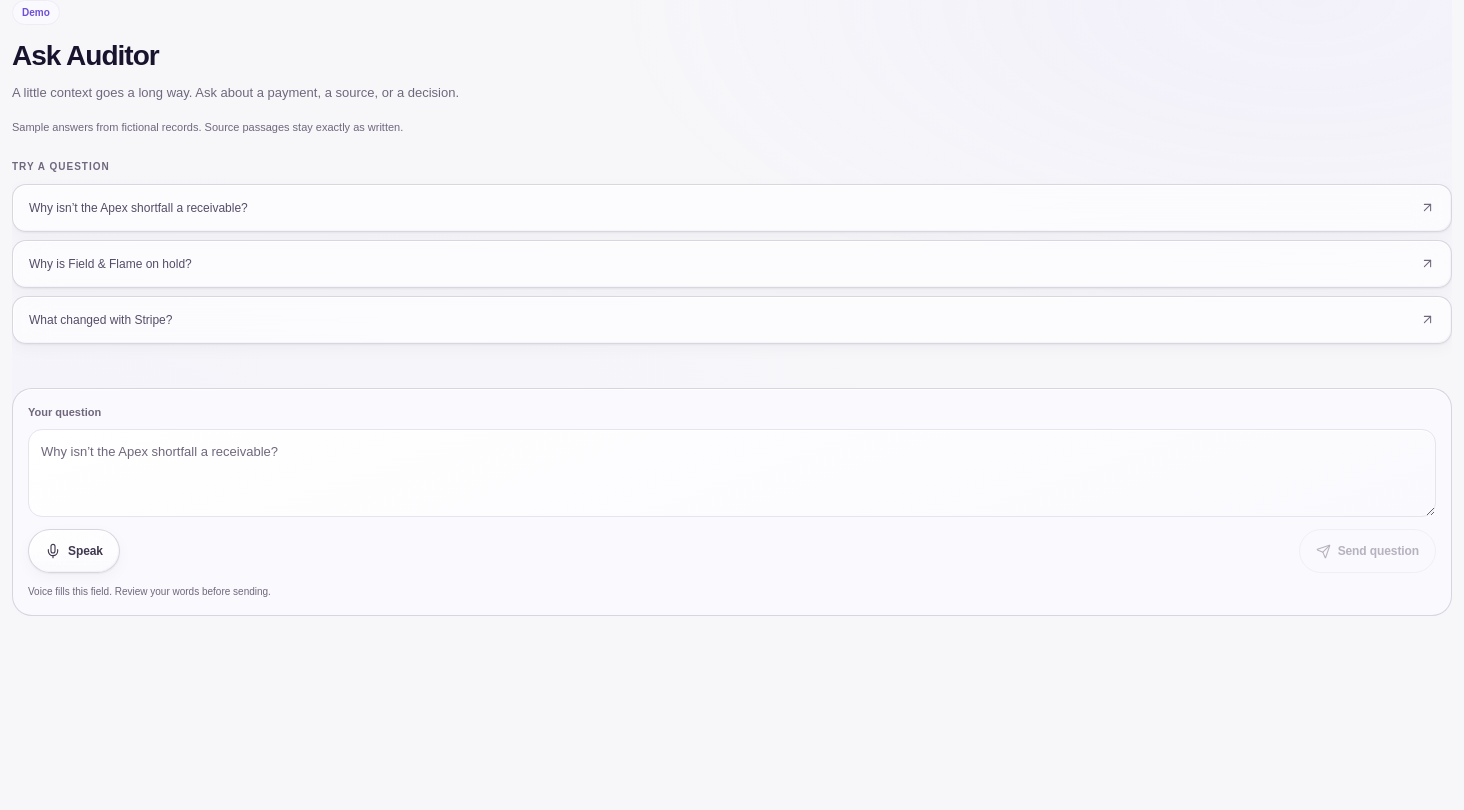
Scenario: explicit voice input › handles not-allowed without losing the typed question
Step 1. Type "Explain Apex" into the text box labelled "Your question" → (732, 473), box [28,429,1436,517]
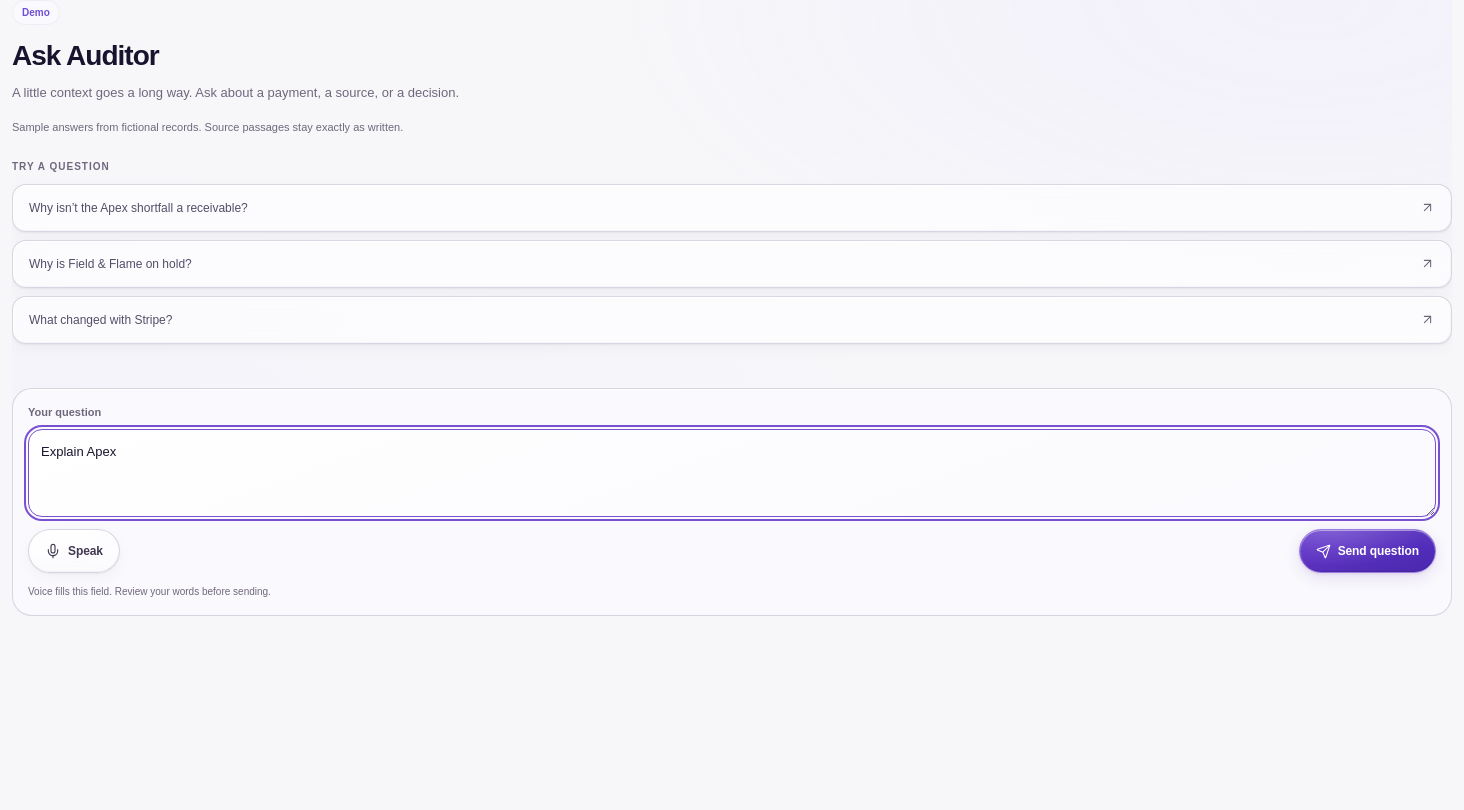
Step 2. Click the button with aria-label "Start microphone" → (74, 551), box [28,529,120,573]
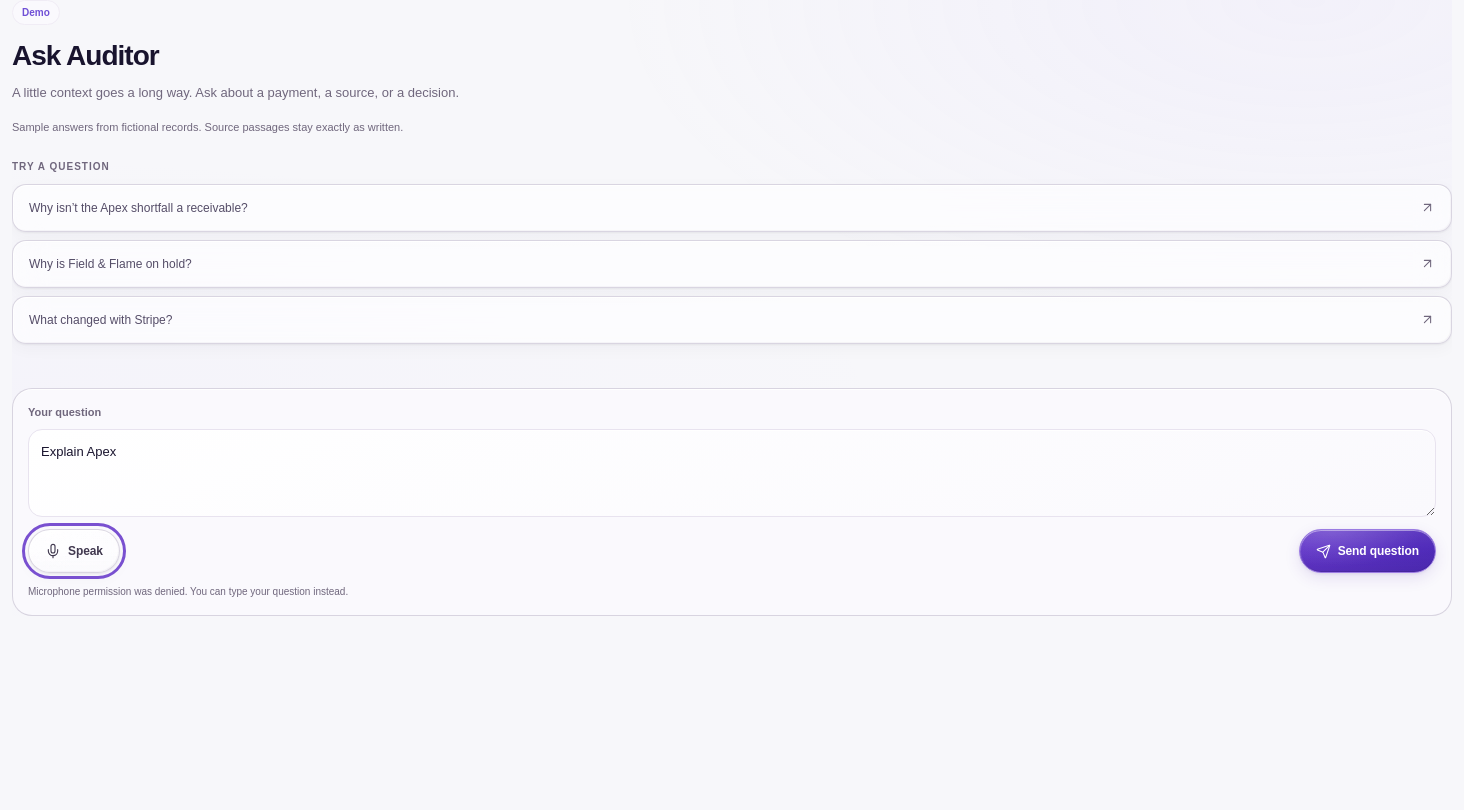
expect the button "Send question" is enabled: met, box [1299,529,1436,573]
expect the text "Microphone permission was denied. You can type your question instead." is shown: met, box [28,586,348,597]
